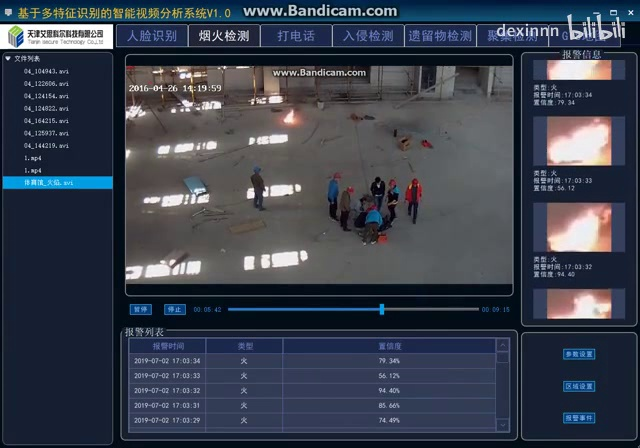fire: (281, 107, 297, 125)
